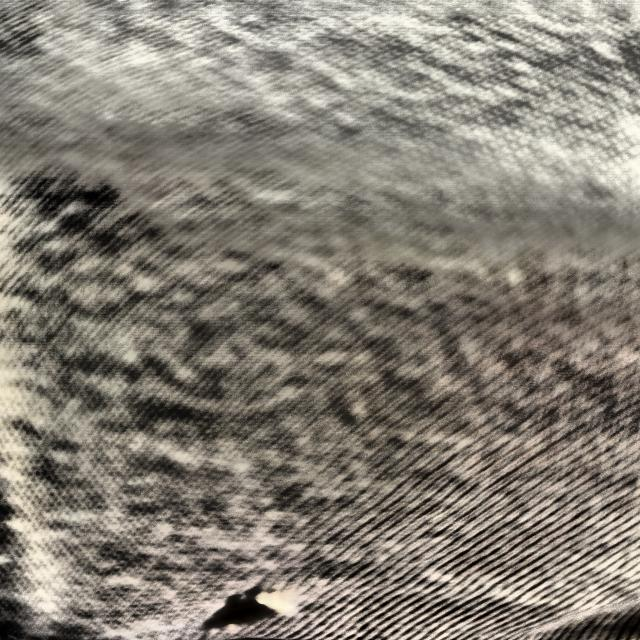Hole: (182, 567, 308, 640)
